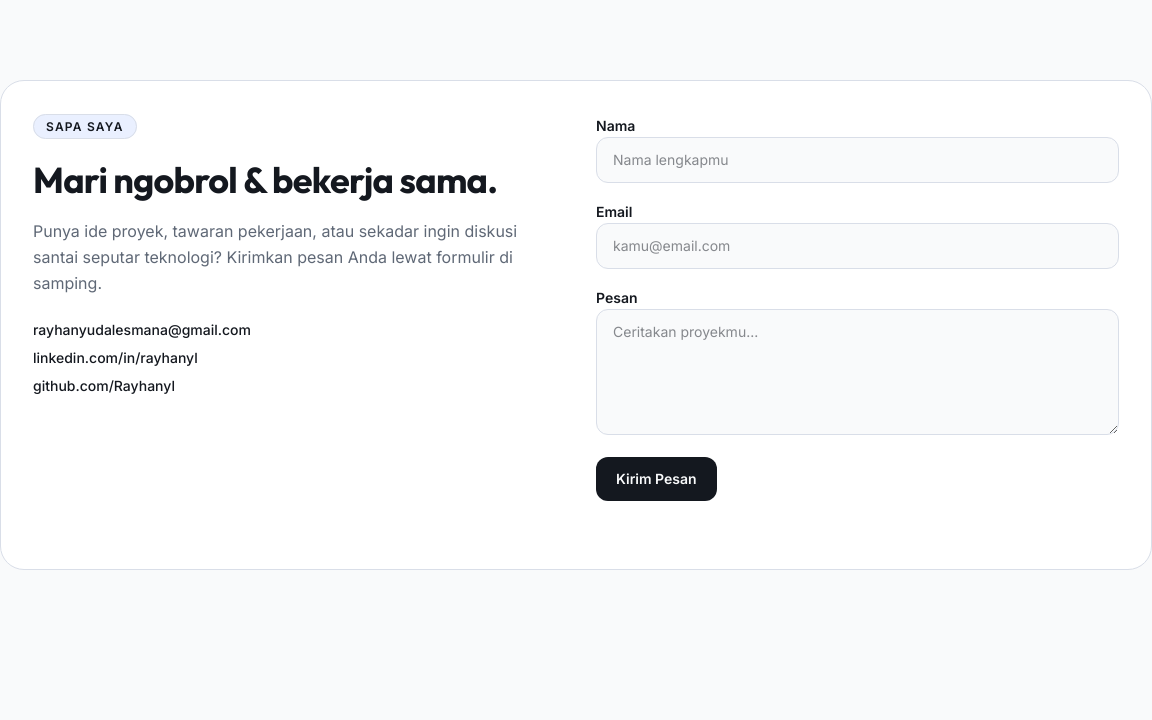
Test case: contact form › shows fallback message when browser blocks mailto intent
The image size is (1152, 720).
Type "Budi" into the field labelled "Nama".
click(858, 160); type("Budi")  # box [596,137,1119,183]
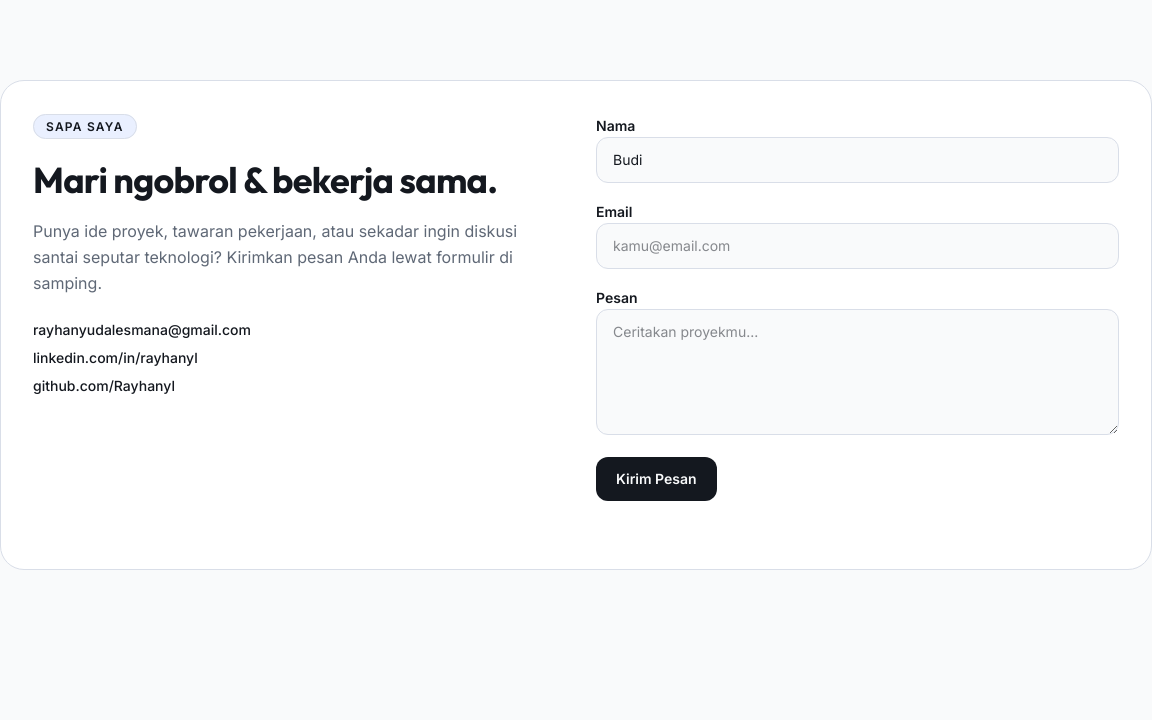
Type "budi@example.com" into the field labelled "Email".
click(858, 246); type("budi@example.com")  # box [596,223,1119,269]
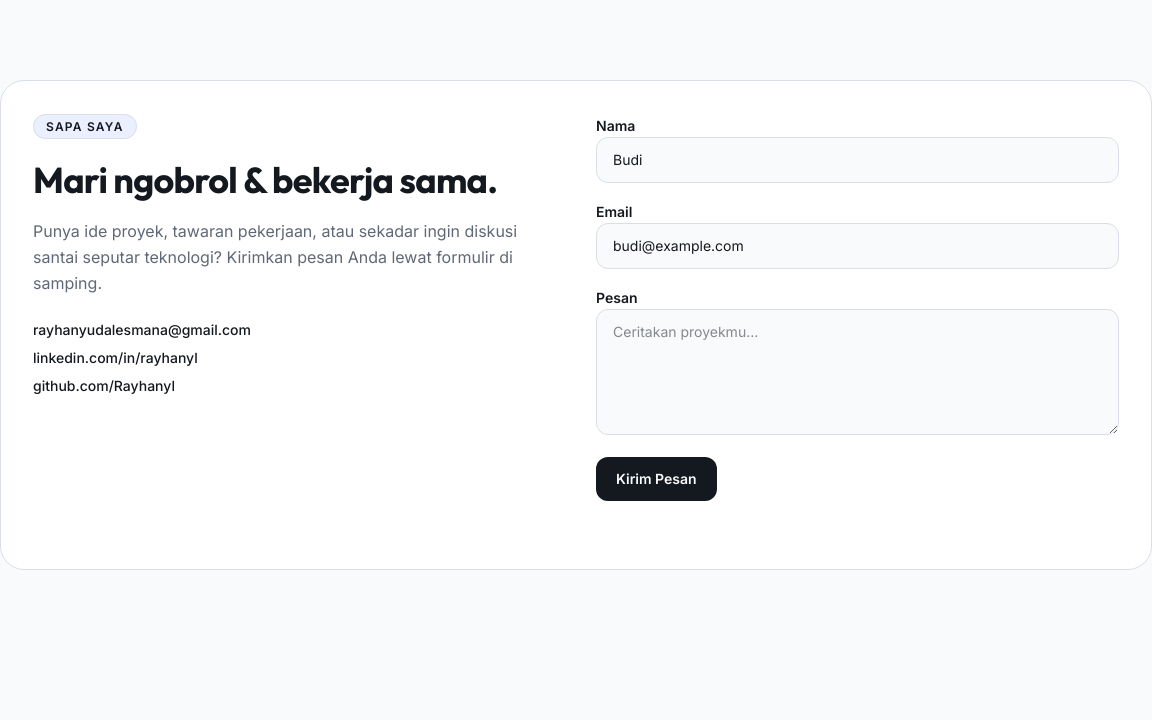
Type "Halo, saya ingin berdiskusi proyek." into the text box labelled "Pesan".
click(858, 372); type("Halo, saya ingin berdiskusi proyek.")  # box [596,309,1119,435]
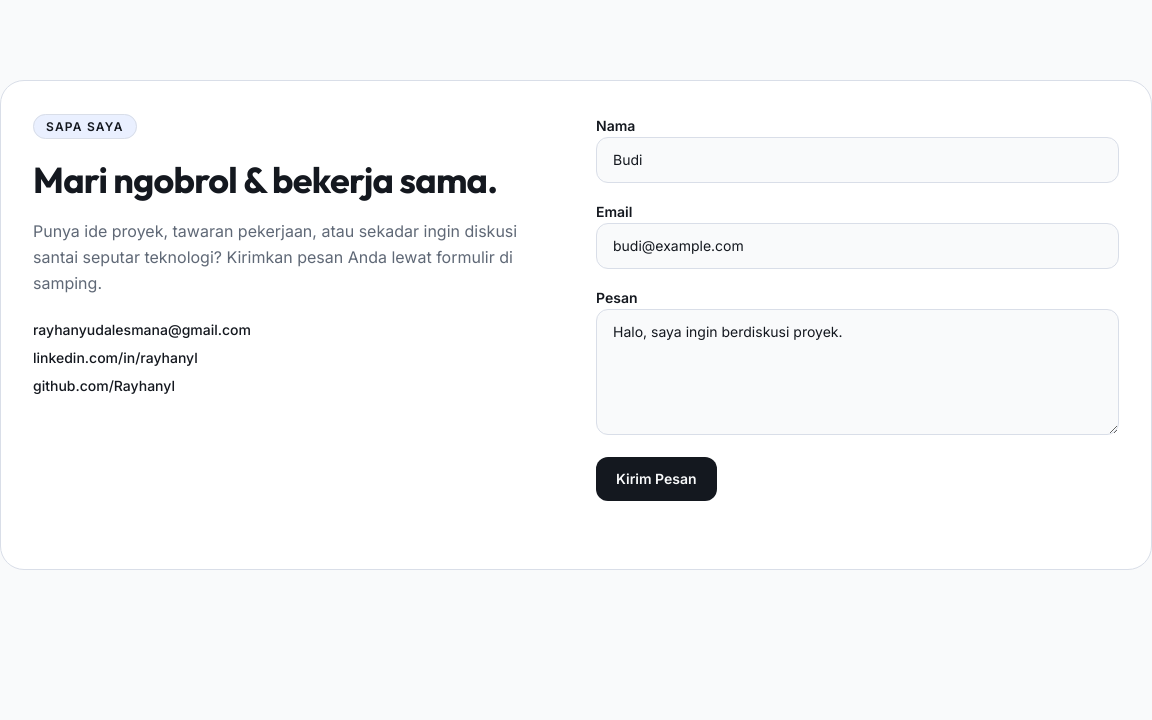
Click the button "Kirim Pesan".
click(656, 479)  # box [596,457,717,501]
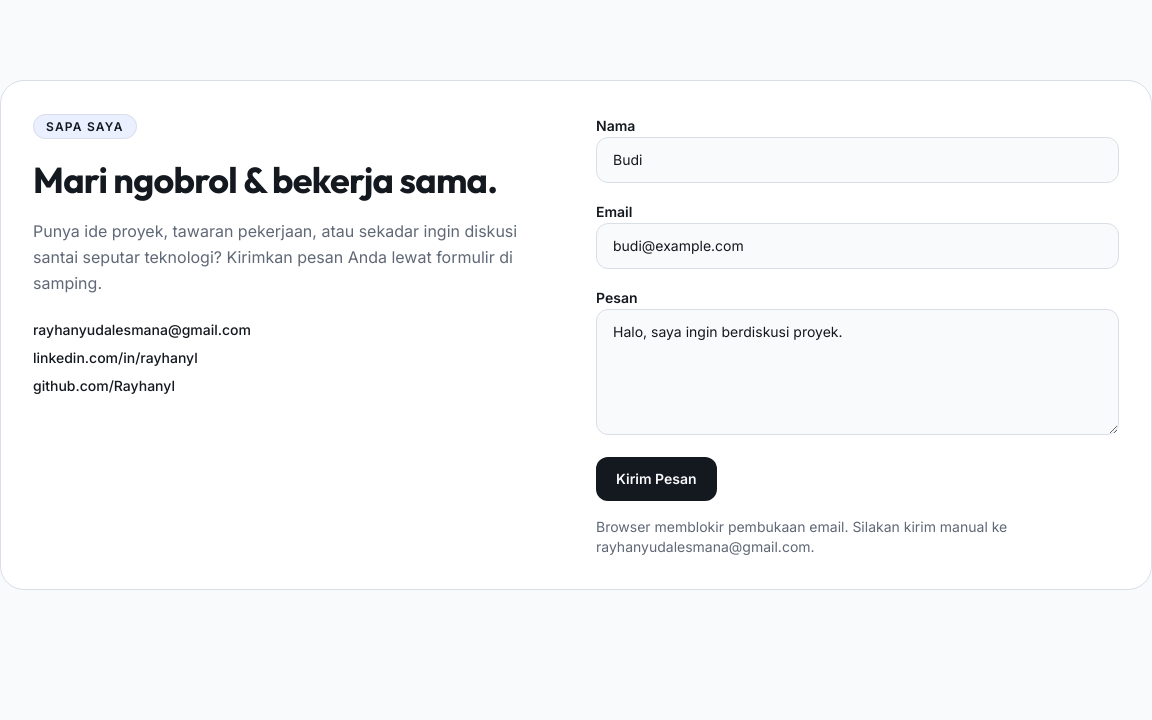
Now the text "Browser memblokir pembukaan email" is shown, box [596,518,1007,555]
